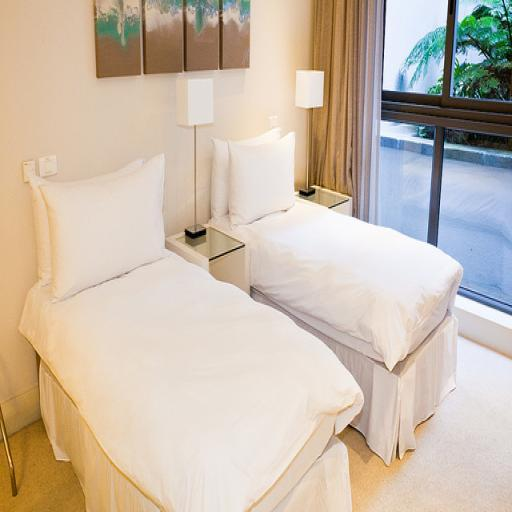bed: (14, 152, 344, 512)
